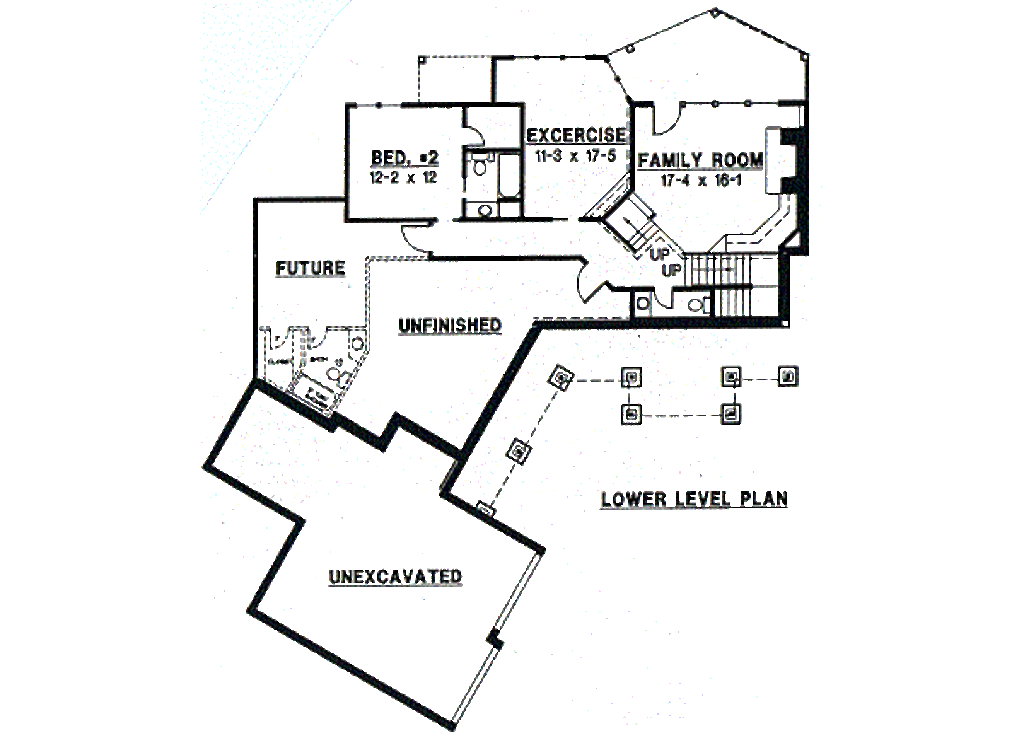door: (569, 257, 614, 306), (647, 91, 684, 144), (395, 220, 443, 258), (652, 280, 681, 319), (303, 322, 332, 350), (460, 122, 486, 150), (268, 321, 293, 347)
large_sink: (324, 357, 359, 394), (677, 287, 715, 319), (466, 147, 492, 175)
small_sink: (463, 201, 498, 219), (345, 334, 377, 353)
stairs: (578, 181, 758, 282), (711, 282, 765, 322)
tub: (498, 151, 525, 201)
